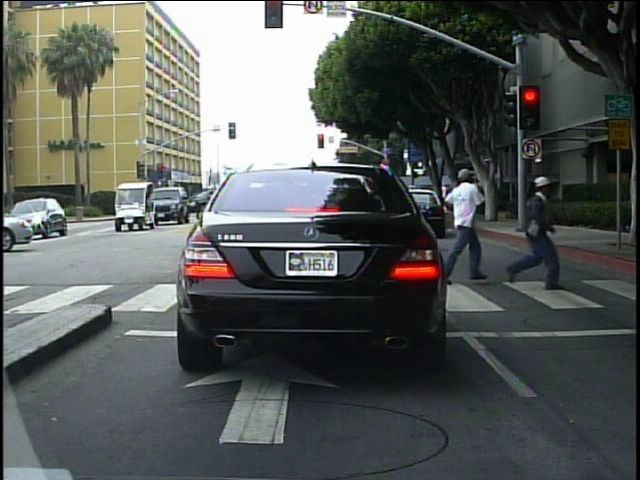person: (506, 169, 553, 297), (437, 164, 484, 278), (438, 179, 452, 210)
